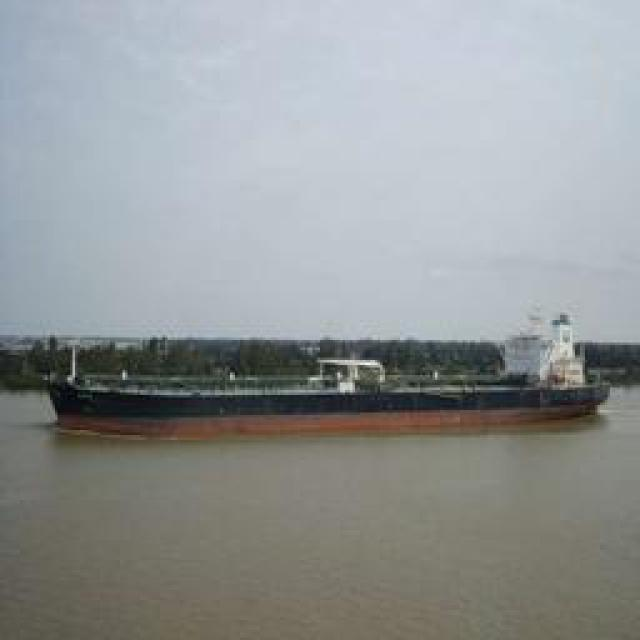Ship: (62, 335, 605, 425)
